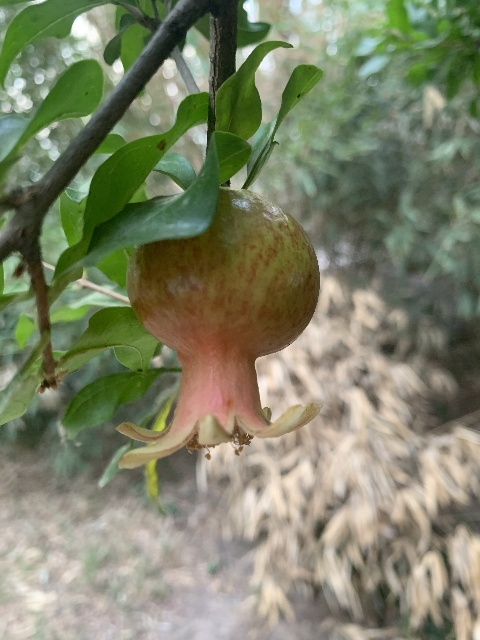early-fruit: (113, 186, 322, 467)
